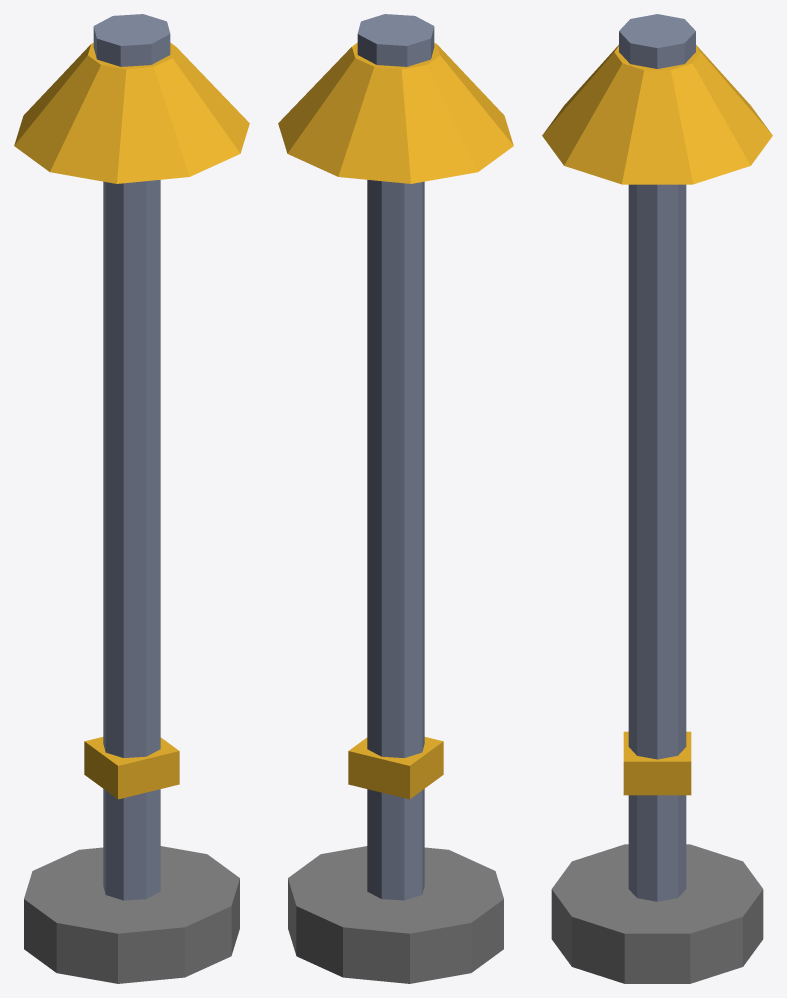
File: lamp_post.glb
The picture shows the model from 3 angles, left to right: view 1: azimuth 30°, elevation 25°; view 2: azimuth 150°, elevation 25°; view 3: azimuth 270°, elevation 25°; orthographic projection.
Parts seen in each view (by area): view 1: lamp_post; view 2: lamp_post; view 3: lamp_post.
Boxes of the visible parts, box(x1,y1,x2,y2) form: lamp_post: box(14, 14, 249, 983); lamp_post: box(278, 14, 513, 983); lamp_post: box(542, 14, 772, 983).
Bounding box in the file's own units: 0.5 × 2.17 × 0.5.
